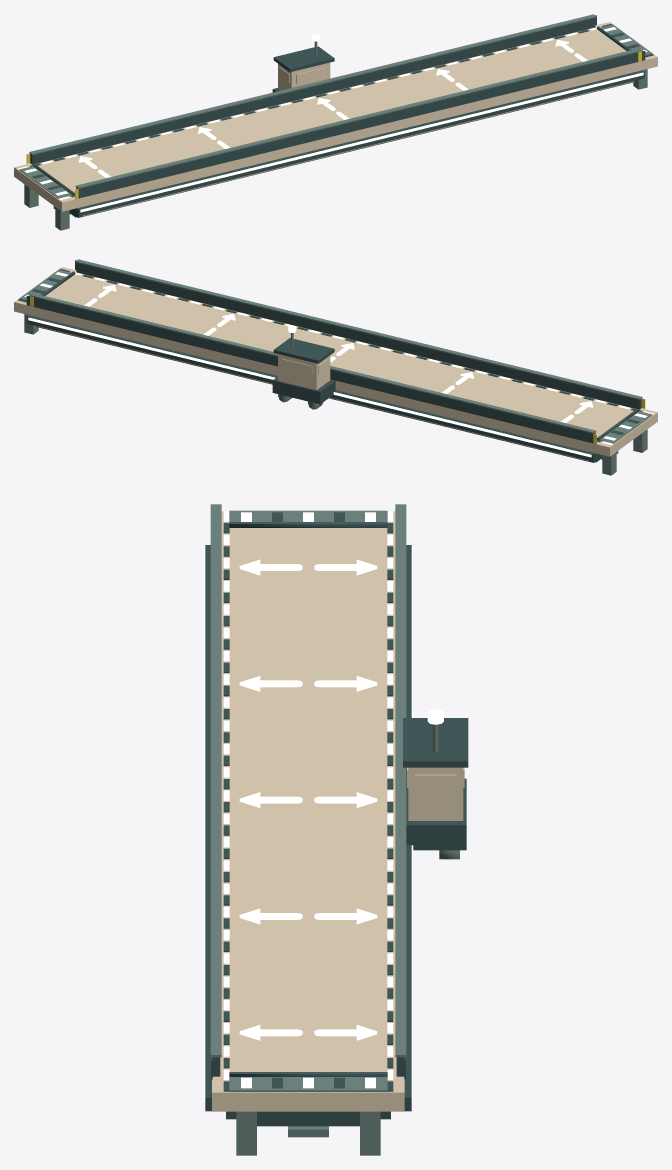
Rendered from Deck_Ferry_v4_20_lab2.glb.
3 views of the same model, one above another, from view 1: azimuth 30°, elevation 25°; view 2: azimuth 150°, elevation 25°; view 3: azimuth 270°, elevation 25° (orthographic). The views are drawn at different scales.
Visible parts, largest first — view 1: Deck_Ferry_v4_20; view 2: Deck_Ferry_v4_20; view 3: Deck_Ferry_v4_20.
Boxes of the visible parts, x1,y1,x2,y2 form: Deck_Ferry_v4_20: (14, 14, 657, 230); Deck_Ferry_v4_20: (14, 259, 657, 475); Deck_Ferry_v4_20: (203, 504, 468, 1155).
Bounding box in the file's own units: 20 × 2.7 × 3.85.
